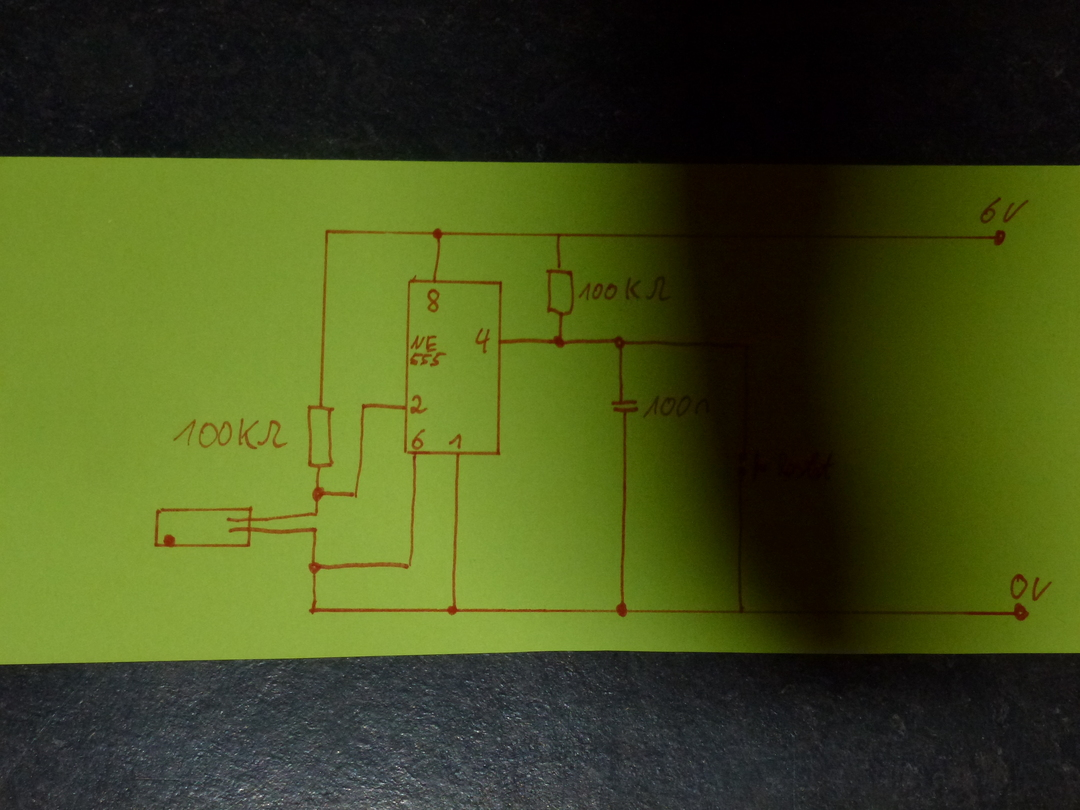capacitor.unpolarized: (609, 396, 642, 417)
integrated_cricuit.ne555: (403, 275, 504, 457)
junction: (550, 333, 569, 351), (612, 333, 628, 351), (614, 601, 630, 618), (311, 485, 326, 502), (740, 337, 755, 354), (307, 560, 322, 575), (431, 226, 446, 241), (446, 603, 460, 617), (307, 602, 319, 616), (735, 605, 748, 617), (554, 229, 565, 242), (404, 559, 415, 572), (349, 487, 360, 500), (323, 227, 333, 238), (310, 524, 319, 535), (359, 400, 368, 411), (312, 509, 320, 518)
resistor: (305, 402, 336, 471), (544, 264, 576, 318)
switch: (153, 504, 255, 552), (734, 449, 769, 484)
terminal: (1010, 601, 1032, 624), (989, 227, 1011, 248)
text: (171, 417, 288, 450), (578, 275, 673, 303), (642, 395, 731, 420), (774, 451, 836, 482), (978, 195, 1031, 225), (1008, 572, 1052, 601), (410, 335, 447, 367), (475, 327, 492, 354), (426, 288, 442, 313), (410, 394, 428, 415), (411, 429, 426, 450), (448, 433, 463, 450)
